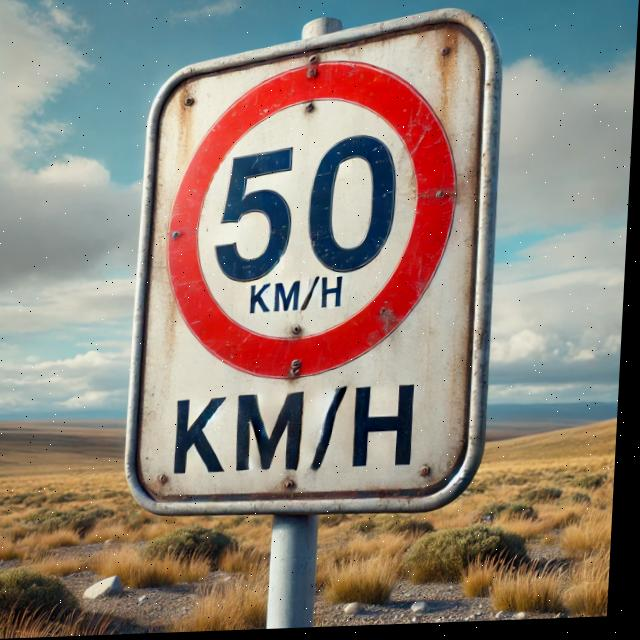Speed limit 50: (163, 57, 468, 388)
